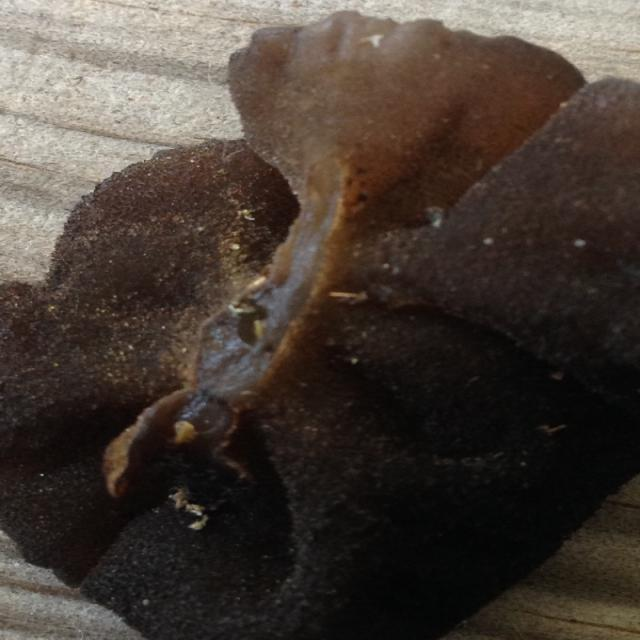Auricularia auricula: (4, 15, 640, 640)
